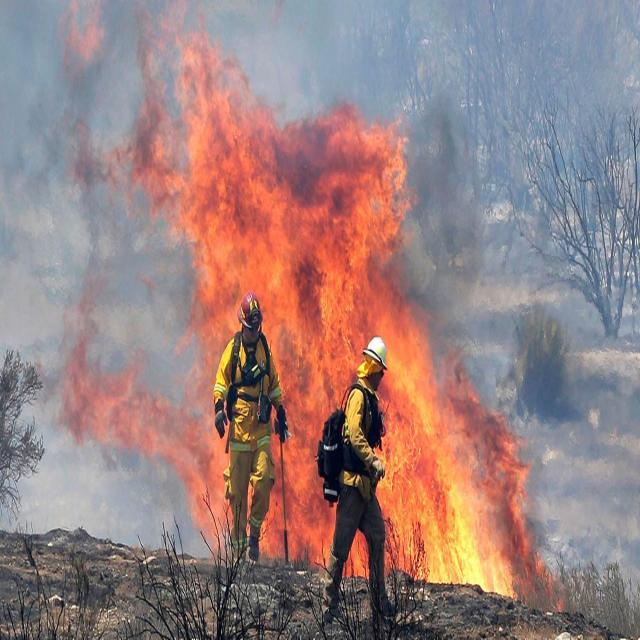Fire: (71, 6, 572, 622)
Smoke: (0, 0, 524, 420)
